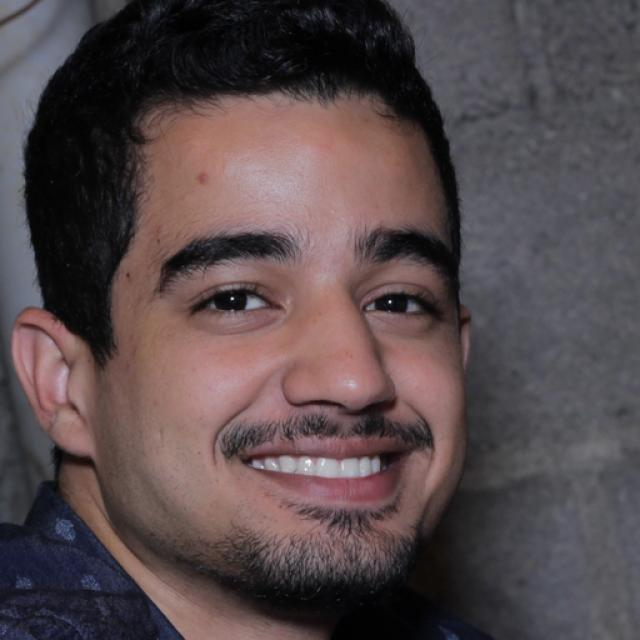Acne: (190, 170, 215, 189)
